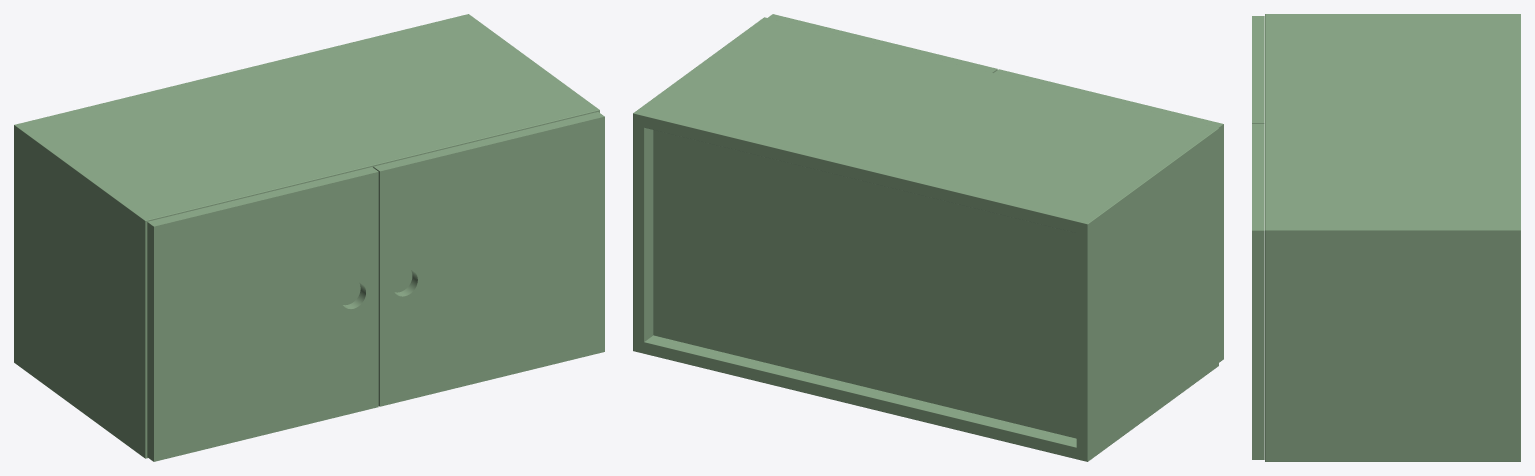
Rendered from MOD-2X1-D-B-SA.glb.
3 renders of one model, left to right at view 1: azimuth 30°, elevation 25°; view 2: azimuth 150°, elevation 25°; view 3: azimuth 270°, elevation 25°, orthographic. The views are drawn at different scales.
Bounding box in the file's own units: 720 × 360 × 378.
